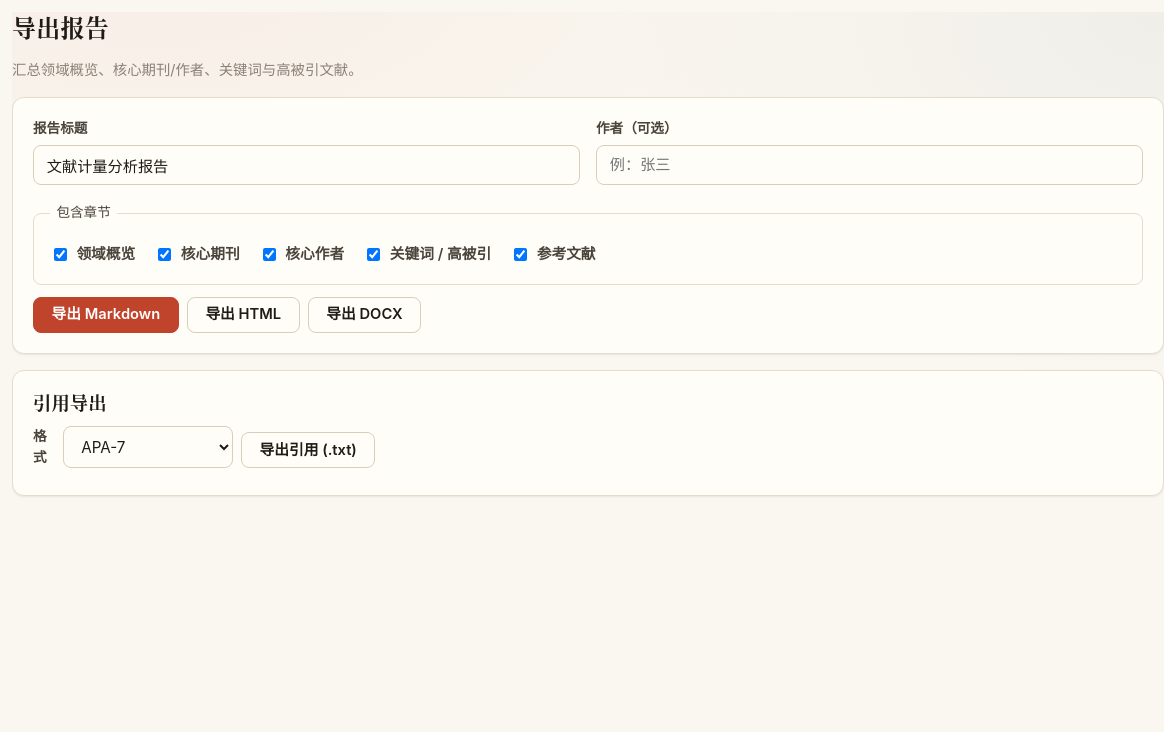
Test: ReportPanel A7 › 取消所有章节 → 导出按钮禁用 + 提示
Click the checkbox labelled "领域概览".
click(60, 254)  # box [54, 248, 67, 261]
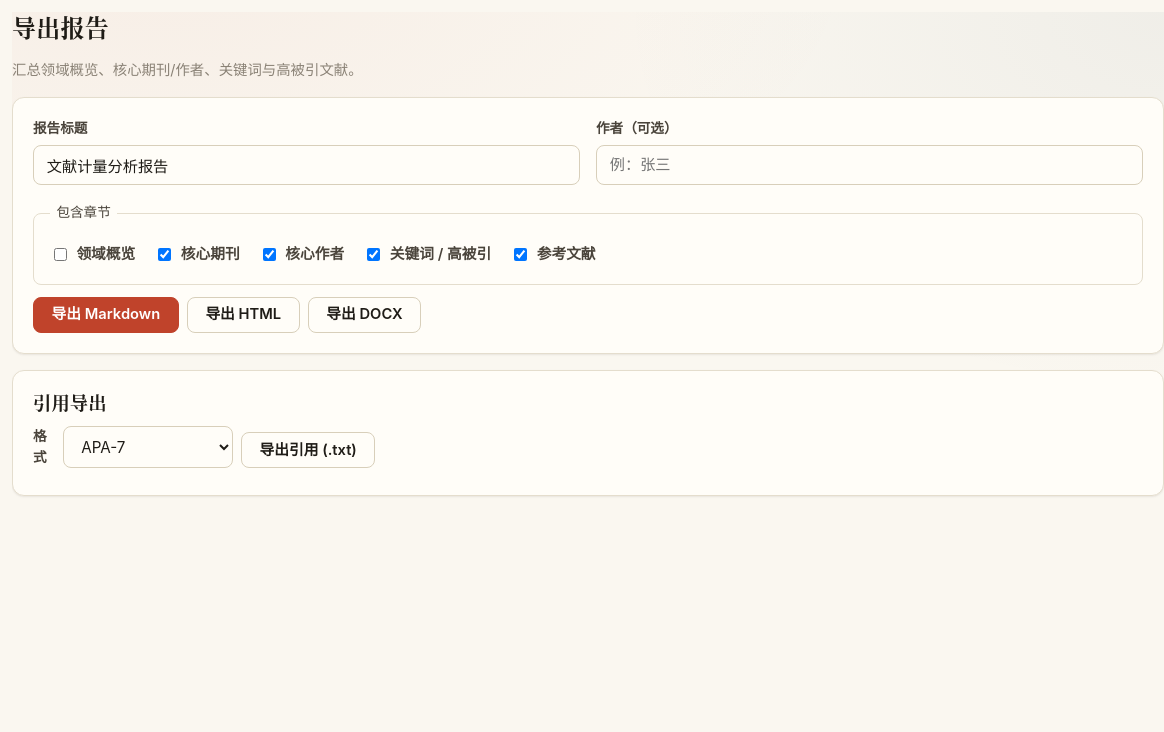
Click the checkbox labelled "核心期刊".
click(165, 254)  # box [158, 248, 172, 261]
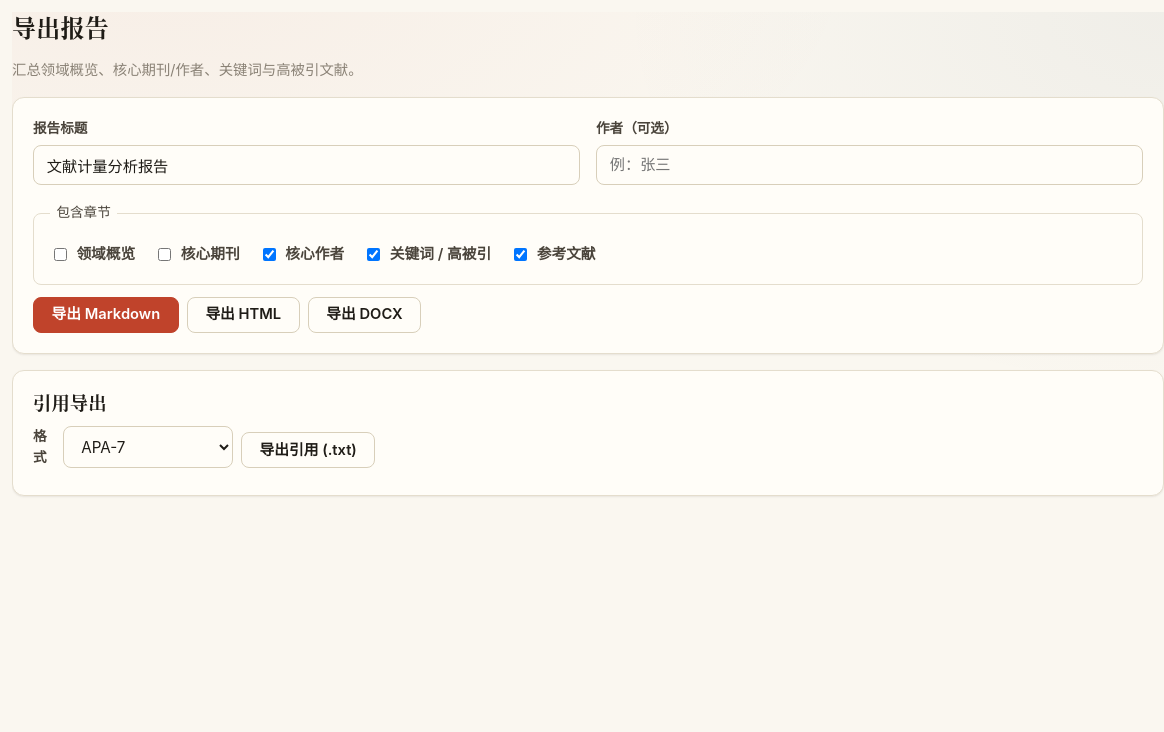
Click the checkbox labelled "核心作者".
click(269, 254)  # box [263, 248, 276, 261]
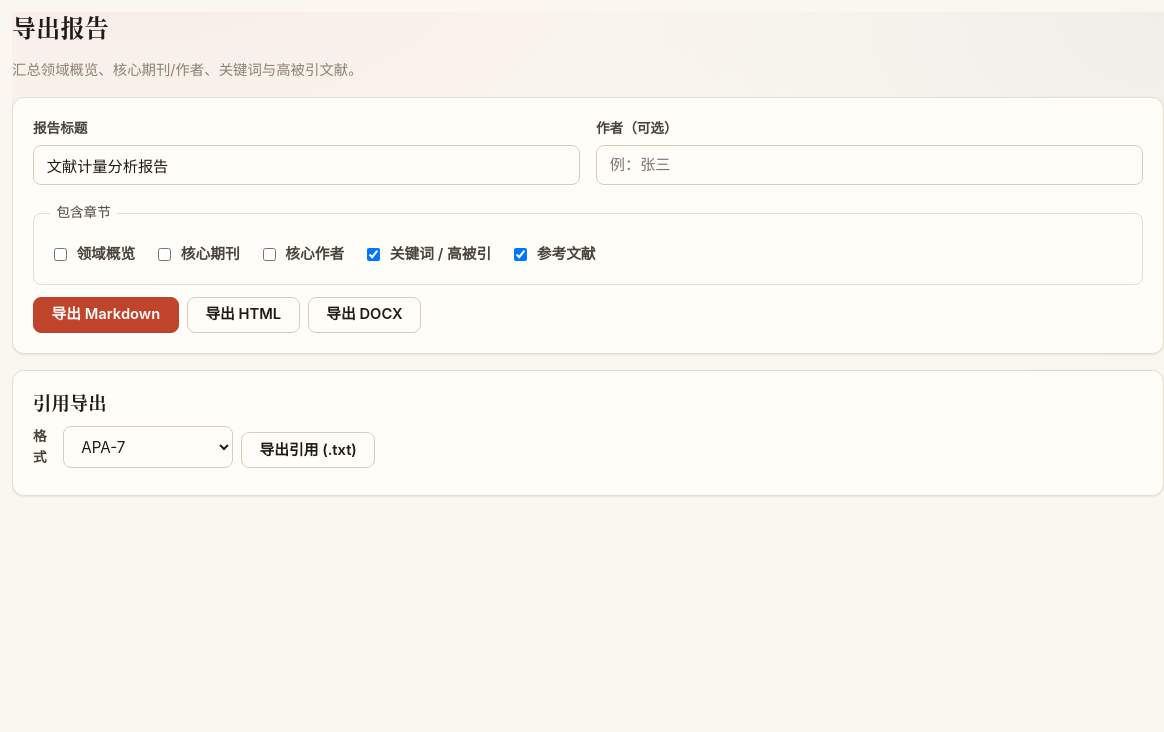
Click the checkbox labelled "关键词 / 高被引".
click(374, 254)  # box [367, 248, 380, 261]
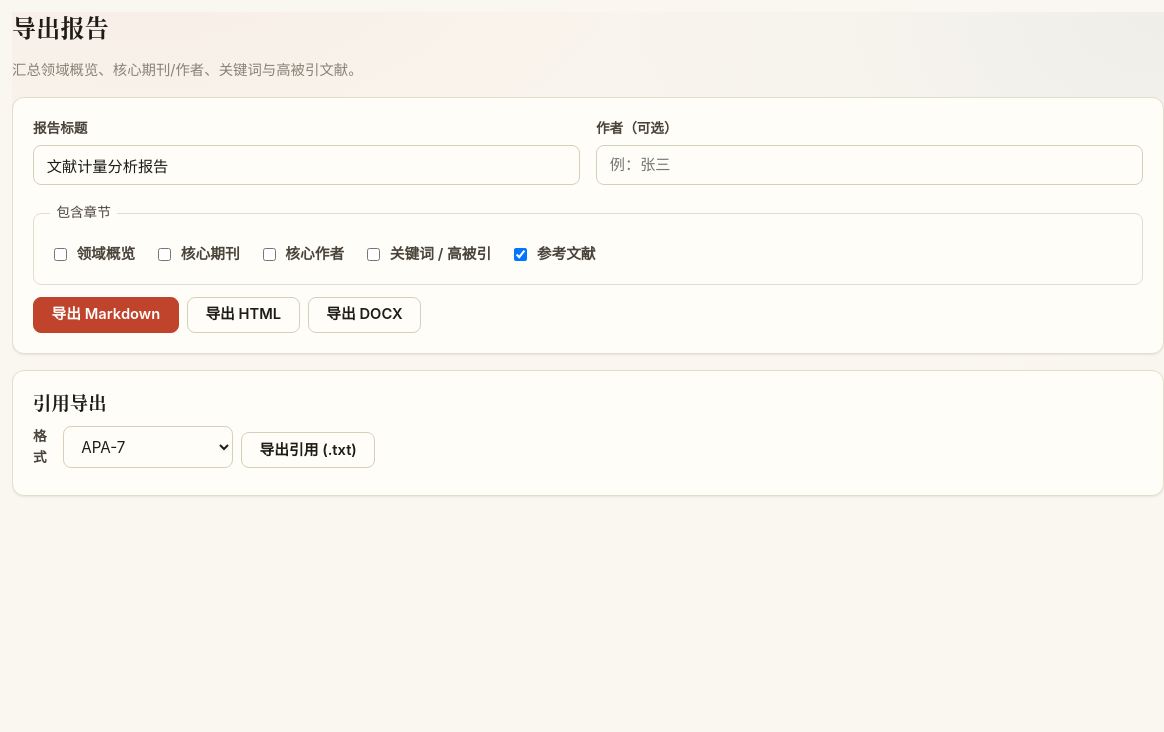
Click the checkbox labelled "参考文献".
click(521, 254)  # box [514, 248, 527, 261]
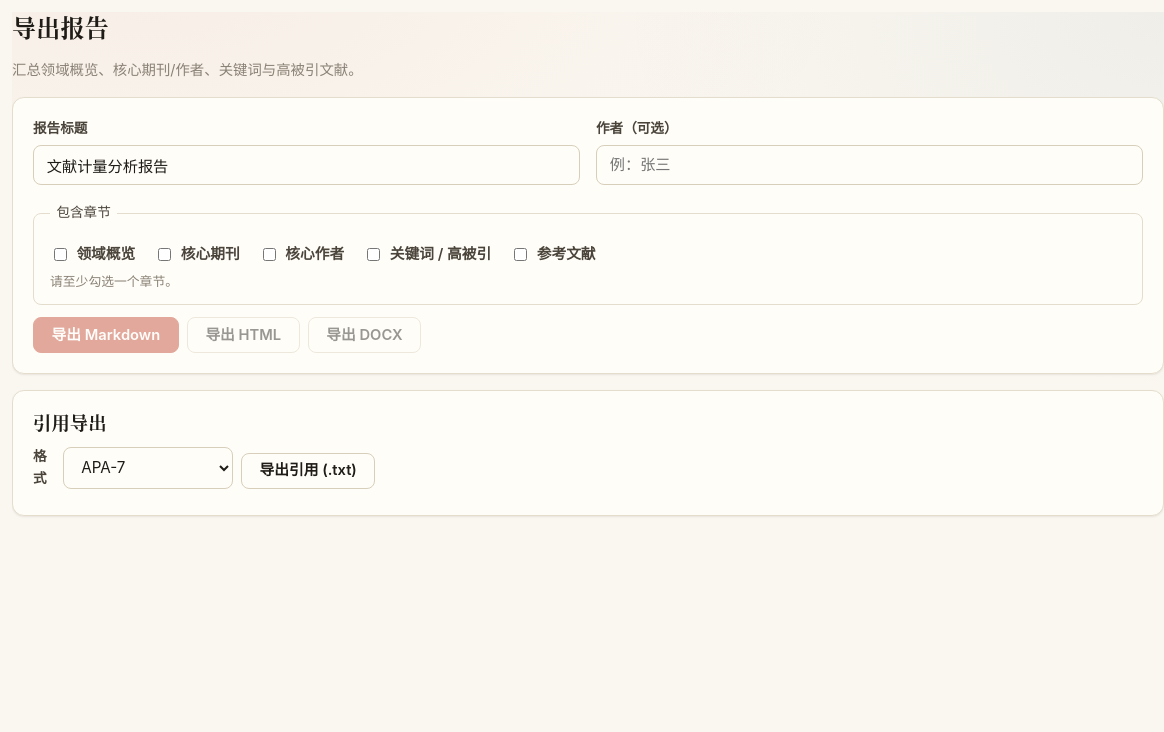
expect the button "导出 Markdown" is disabled: met, box [33, 317, 179, 353]
expect the text "请至少勾选一个章节。" is shown: met, box [50, 274, 178, 289]
